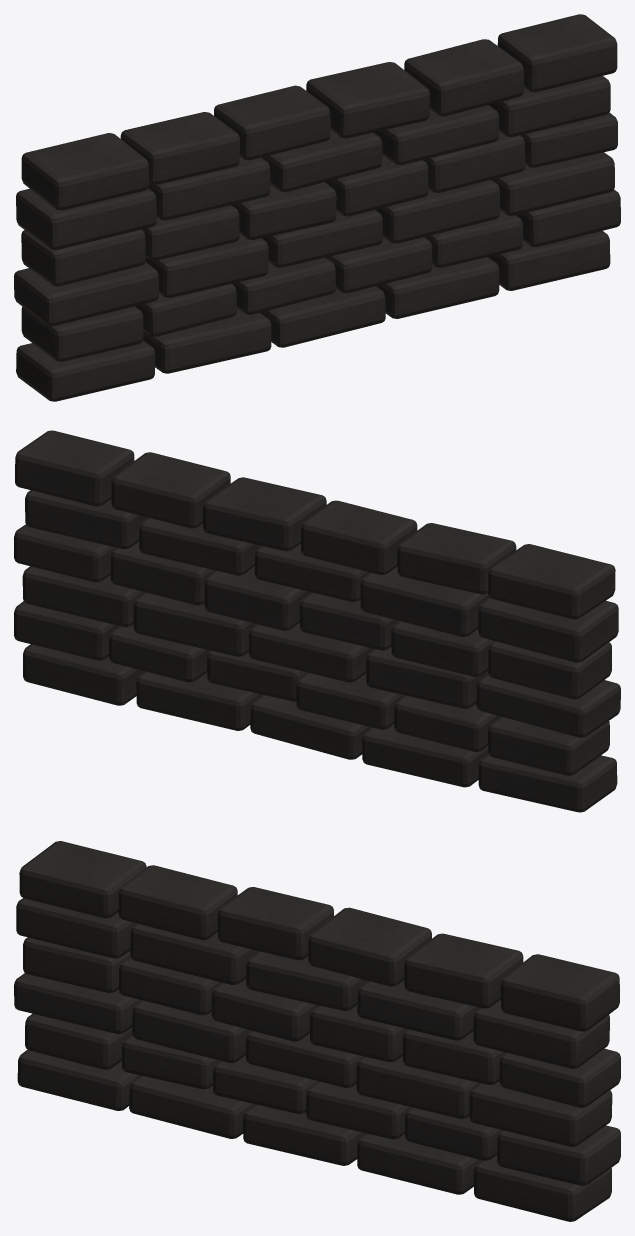
Rendered from prop_town_rock_wall_large.glb.
3 views of the same model, one above another, from view 1: azimuth 30°, elevation 25°; view 2: azimuth 150°, elevation 25°; view 3: azimuth 330°, elevation 25° (orthographic).
Parts seen in each view (by area): view 1: stone; view 2: stone; view 3: stone.
Boxes of the visible parts, box(x1,y1,x2,y2) form: stone: box(14, 14, 620, 401); stone: box(14, 430, 620, 812); stone: box(14, 841, 620, 1221).
Bounding box in the file's own units: 6.26 × 2.38 × 0.8296.
1 material, 1 textured.
